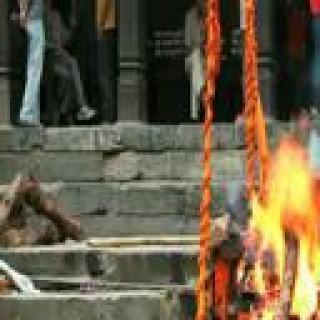fire: (241, 132, 320, 320)
